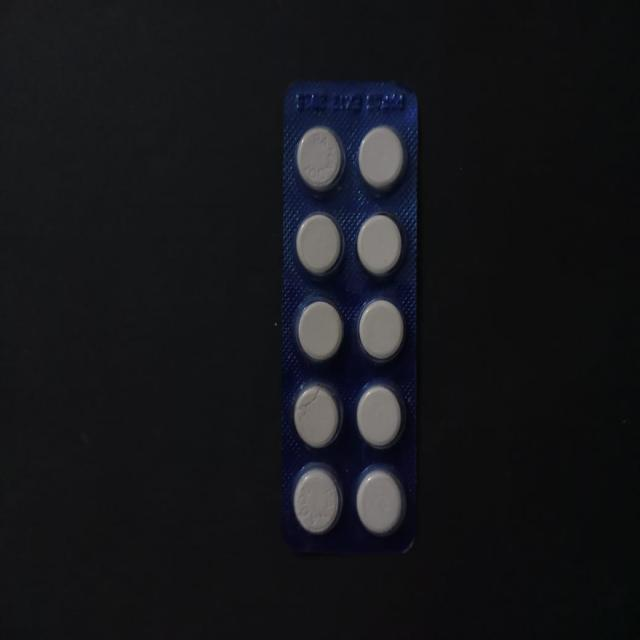defect: (293, 379, 343, 451)
